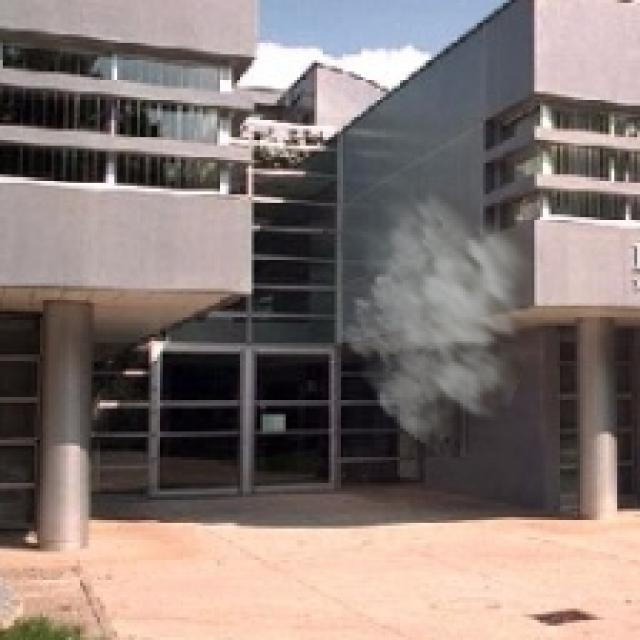smoke: (337, 180, 563, 457)
